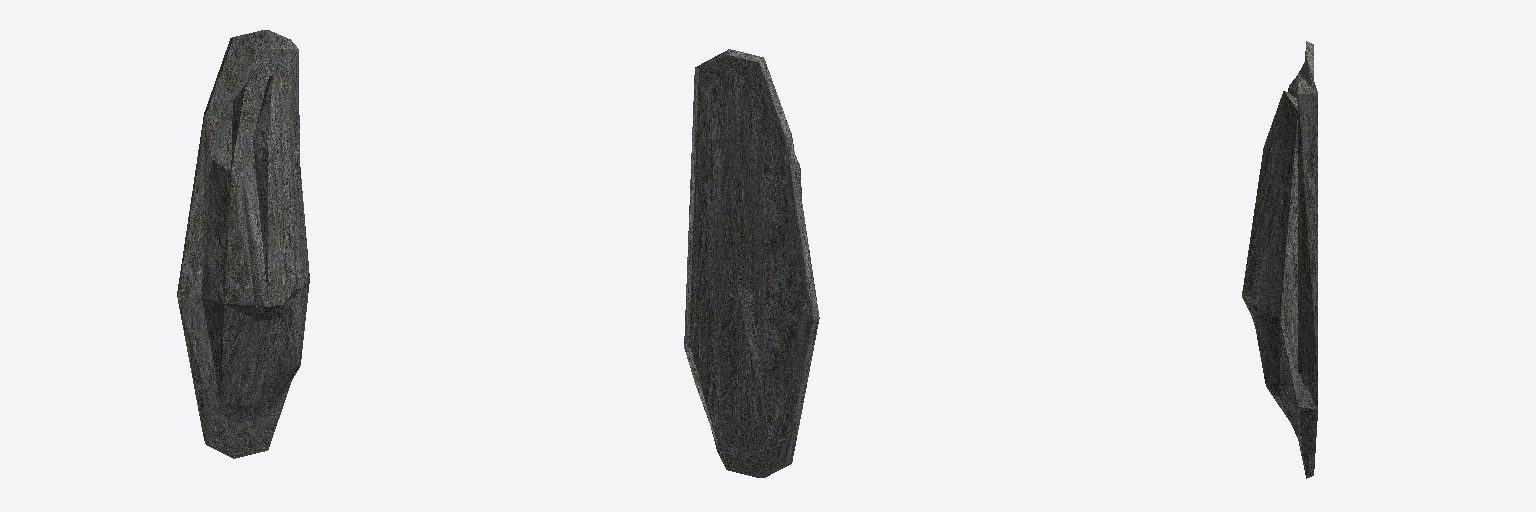
3 renders of one model, left to right at view 1: azimuth 30°, elevation 25°; view 2: azimuth 150°, elevation 25°; view 3: azimuth 270°, elevation 25°, orthographic.
Parts seen in each view (by area): view 1: pSphere1; view 2: pSphere1; view 3: pSphere1.
Boxes of the visible parts, x1=… form: pSphere1: x1=177, y1=30, x2=309, y2=458; pSphere1: x1=684, y1=49, x2=819, y2=477; pSphere1: x1=1242, y1=41, x2=1317, y2=478.
Bounding box in the file's own units: 23.71 × 73.56 × 12.11.
1 materials, 1 textured.